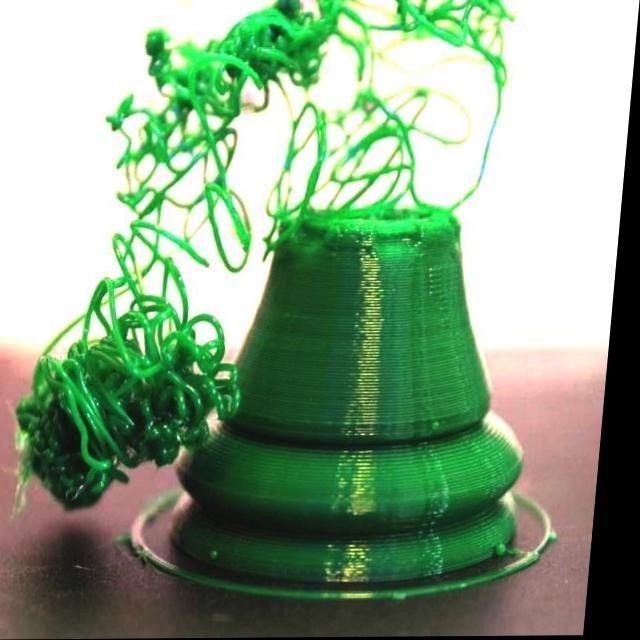spaghetti: (1, 247, 268, 518), (64, 1, 340, 241), (308, 1, 523, 218)
